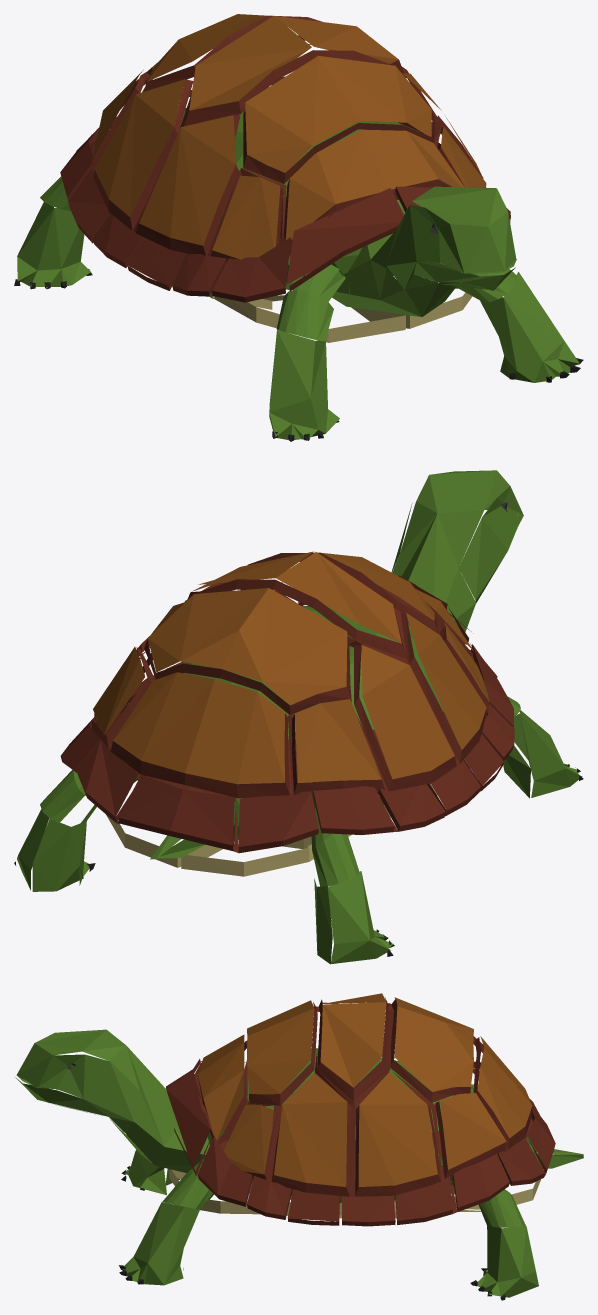
The model's file is sea_turtle.glb.
The picture shows the model from 3 angles, top to bottom: view 1: azimuth 30°, elevation 25°; view 2: azimuth 150°, elevation 25°; view 3: azimuth 270°, elevation 25°; orthographic projection. The views are drawn at different scales.
Parts seen in each view (by area): view 1: Node; view 2: Node; view 3: Node.
Boxes of the visible parts, <box> form: Node: <box>14,14,583,441</box>; Node: <box>14,470,583,964</box>; Node: <box>15,993,583,1300</box>.
Size of the model in its own units: 13.4 by 9.5 by 21.67.
